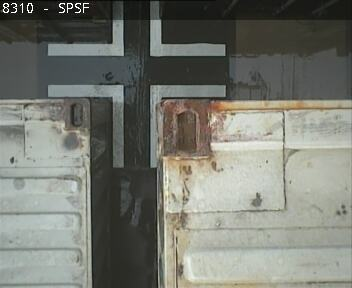groundmarker_1: (46, 83, 226, 167), (47, 1, 226, 55)
